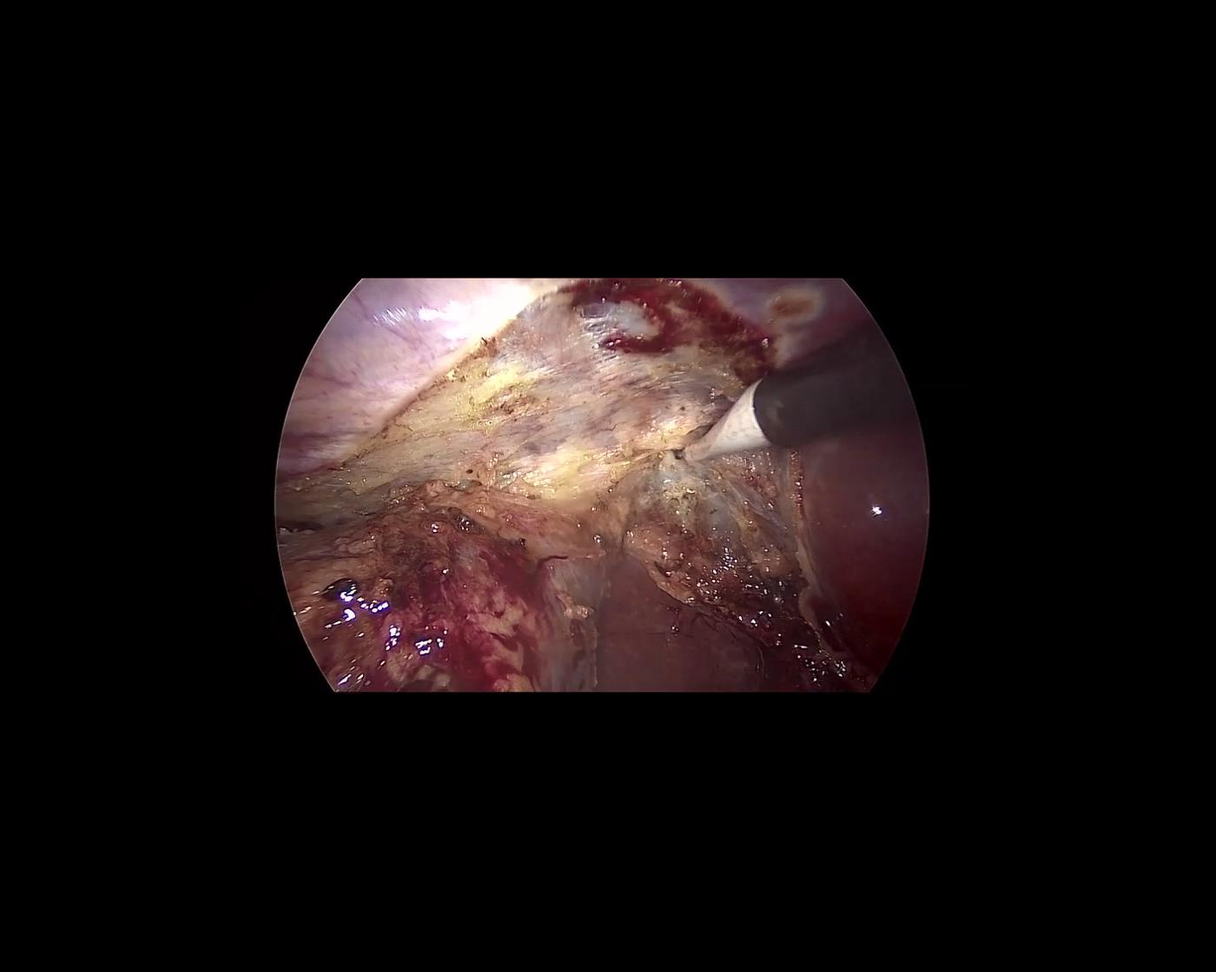Cautery: (666, 321, 917, 463)
Gallbladder: (277, 490, 610, 691)
Liver: (693, 223, 1001, 681), (217, 187, 557, 499), (591, 539, 763, 693)
